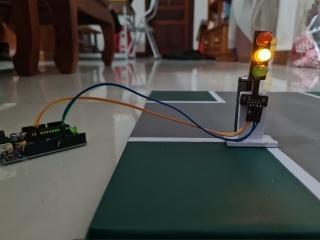yellow: (245, 23, 281, 88)
